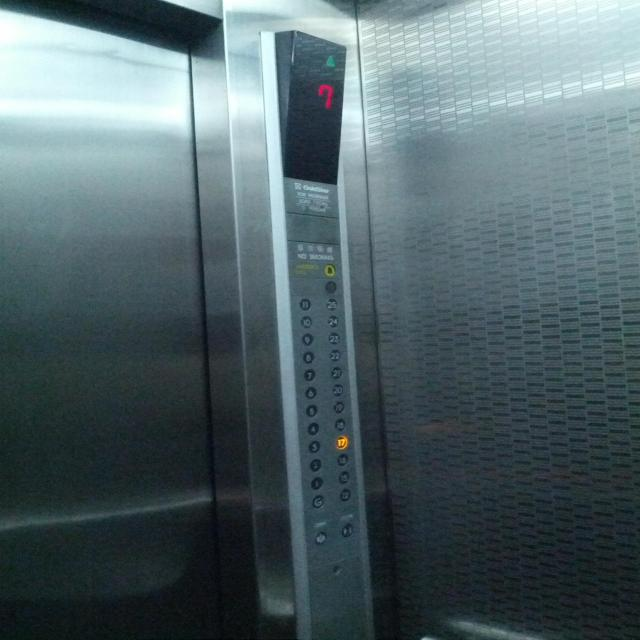1: (310, 476, 322, 490)
10: (300, 314, 312, 328)
11: (299, 297, 311, 311)
12: (339, 487, 351, 502)
15: (338, 470, 350, 484)
16: (336, 452, 348, 466)
17: (335, 435, 348, 450)
18: (334, 417, 346, 431)
19: (333, 400, 344, 414)
2: (309, 458, 321, 471)
20: (331, 383, 343, 396)
21: (330, 365, 342, 379)
22: (329, 348, 340, 362)
23: (328, 331, 340, 344)
24: (327, 314, 339, 328)
25: (326, 298, 337, 311)
3: (308, 440, 320, 453)
4: (307, 422, 319, 435)
5: (305, 404, 317, 417)
6: (305, 385, 317, 399)
7: (303, 368, 315, 382)
8: (302, 350, 314, 364)
9: (302, 332, 313, 346)
G: (312, 494, 324, 508)
alarm: (324, 263, 335, 277)
blur: (324, 280, 336, 294)
close: (340, 522, 352, 538)
led: (271, 27, 349, 190)
open: (314, 530, 327, 544)
